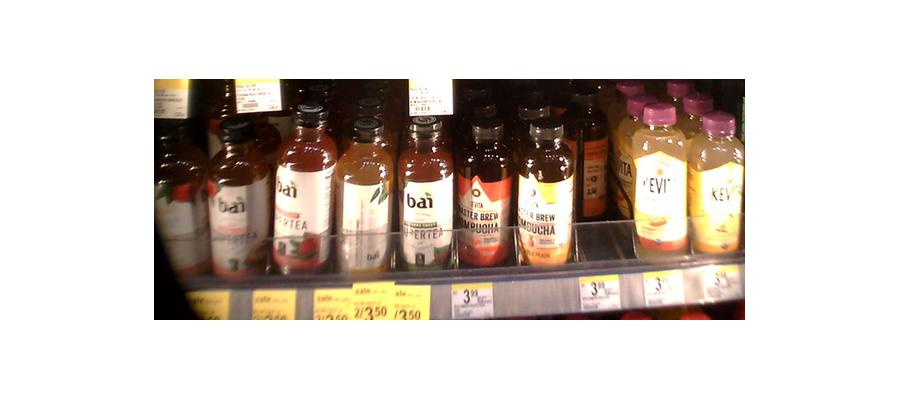bottle: (273, 98, 336, 278), (210, 115, 273, 283), (627, 103, 693, 261), (152, 95, 208, 279), (336, 108, 394, 277), (396, 111, 456, 274), (458, 114, 514, 270), (517, 116, 575, 266), (693, 107, 744, 261), (569, 86, 609, 226)
